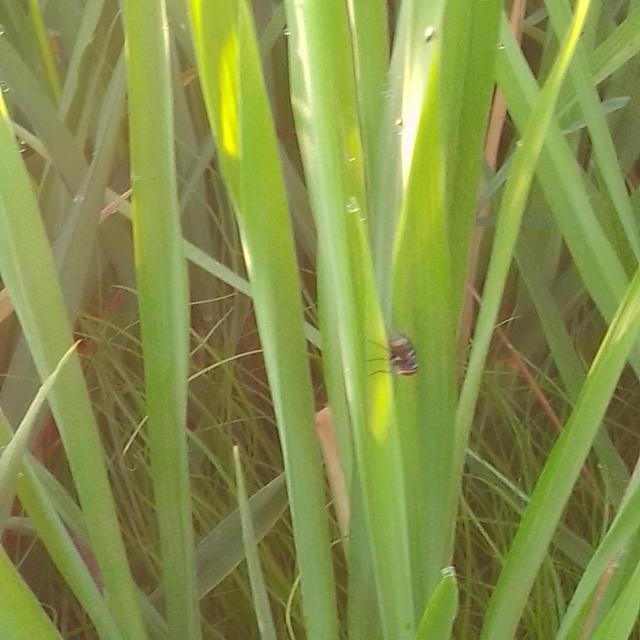healthy: (370, 329, 435, 391)
